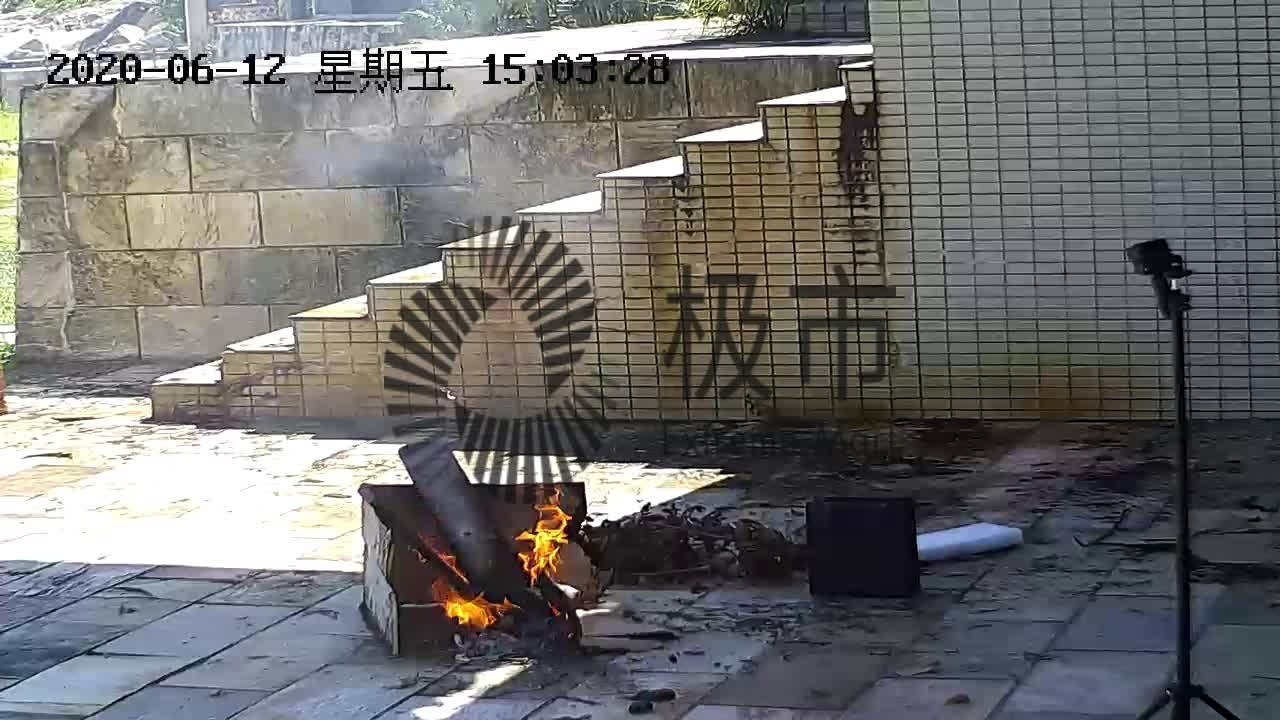fire: (418, 500, 586, 633)
